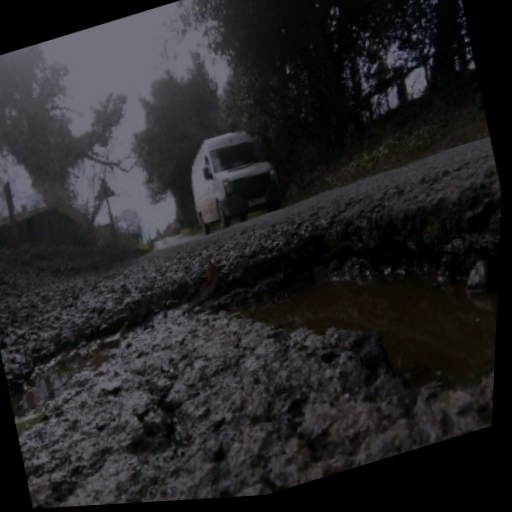pothole: (0, 172, 503, 511)
